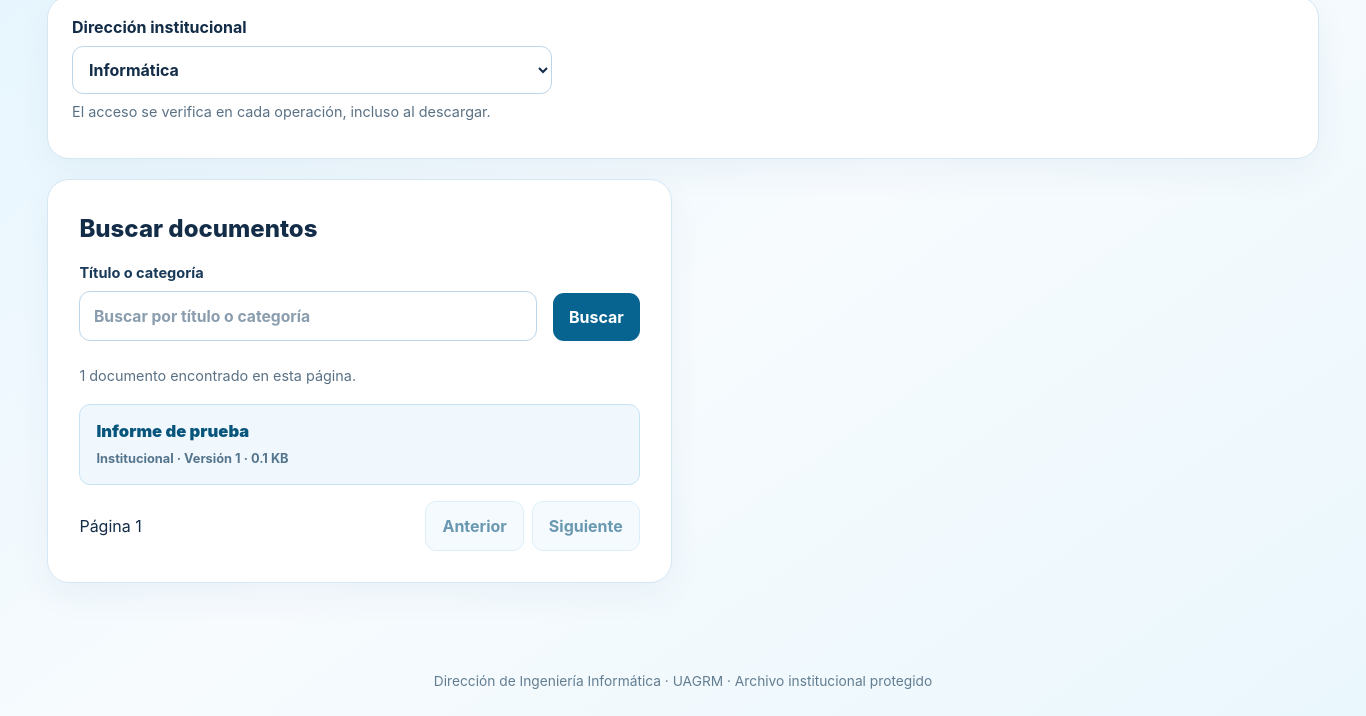
Vista previa autorizada de documentos › descarta una respuesta tardía si el usuario cerró el detalle
The width and height of the screenshot is (1366, 716).
(page scrolled)
What coordinates should you click on to do the following:
click the button "Informe de prueba Institucional · Versión 1 · 0.1 KB"
I would click on:
 (173, 431)
Its box is [79, 404, 640, 485].
(page scrolled)
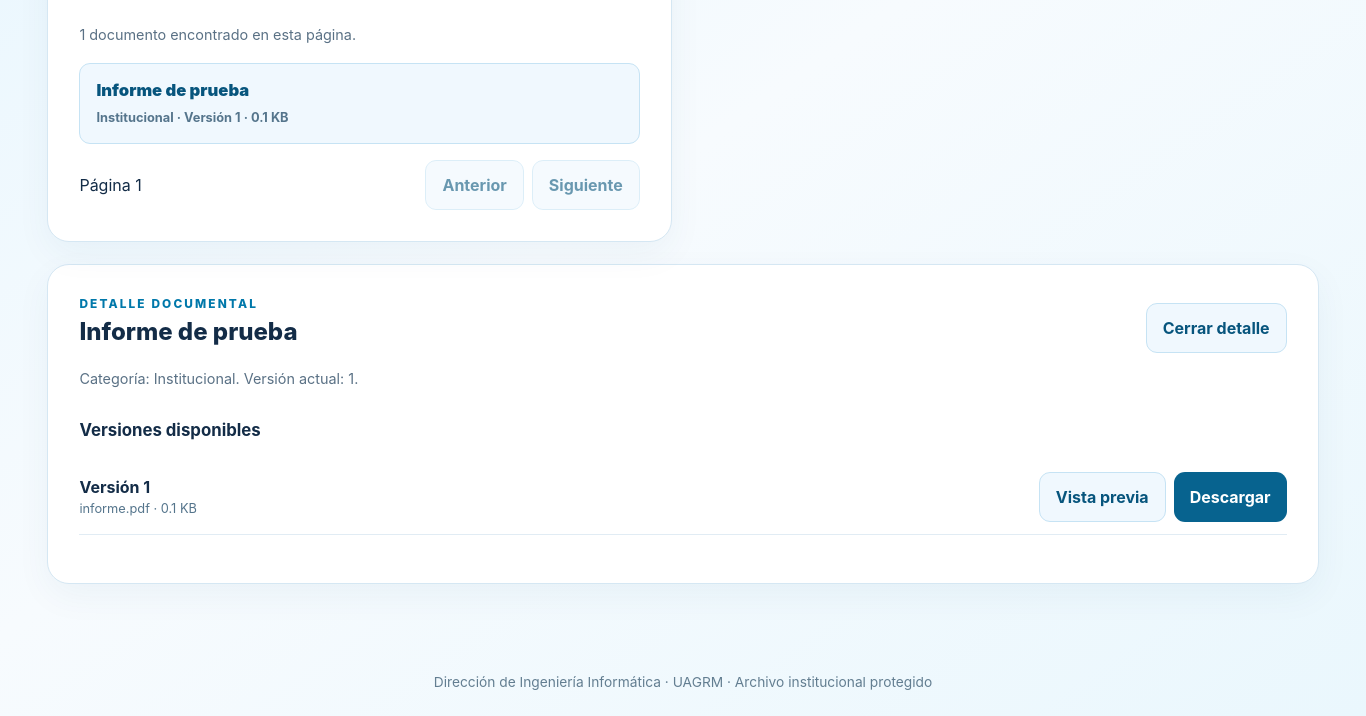
What coordinates should you click on to do the following:
click the button "Vista previa"
I would click on:
 (1102, 497)
Its box is [1039, 472, 1166, 522].
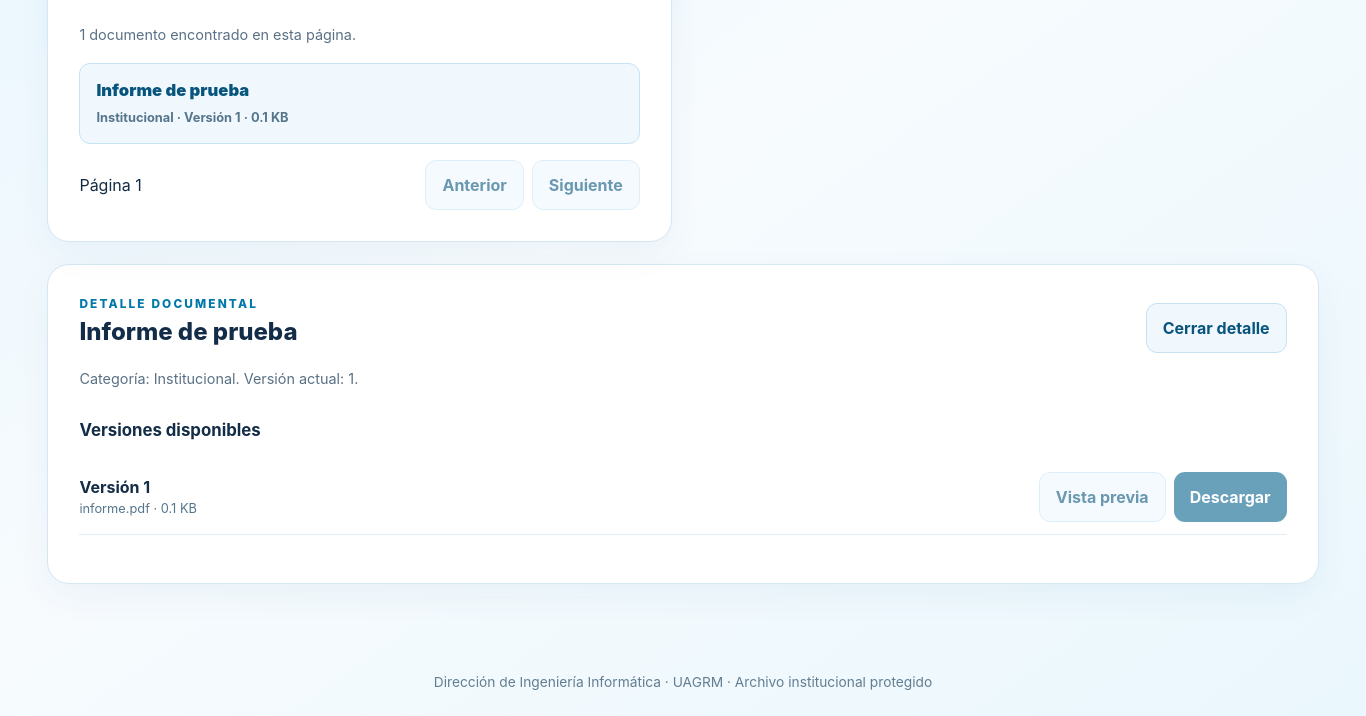
What coordinates should you click on to do the following:
click the button "Cerrar detalle"
I would click on:
 (1216, 328)
Its box is [1146, 303, 1287, 353].
(page scrolled)
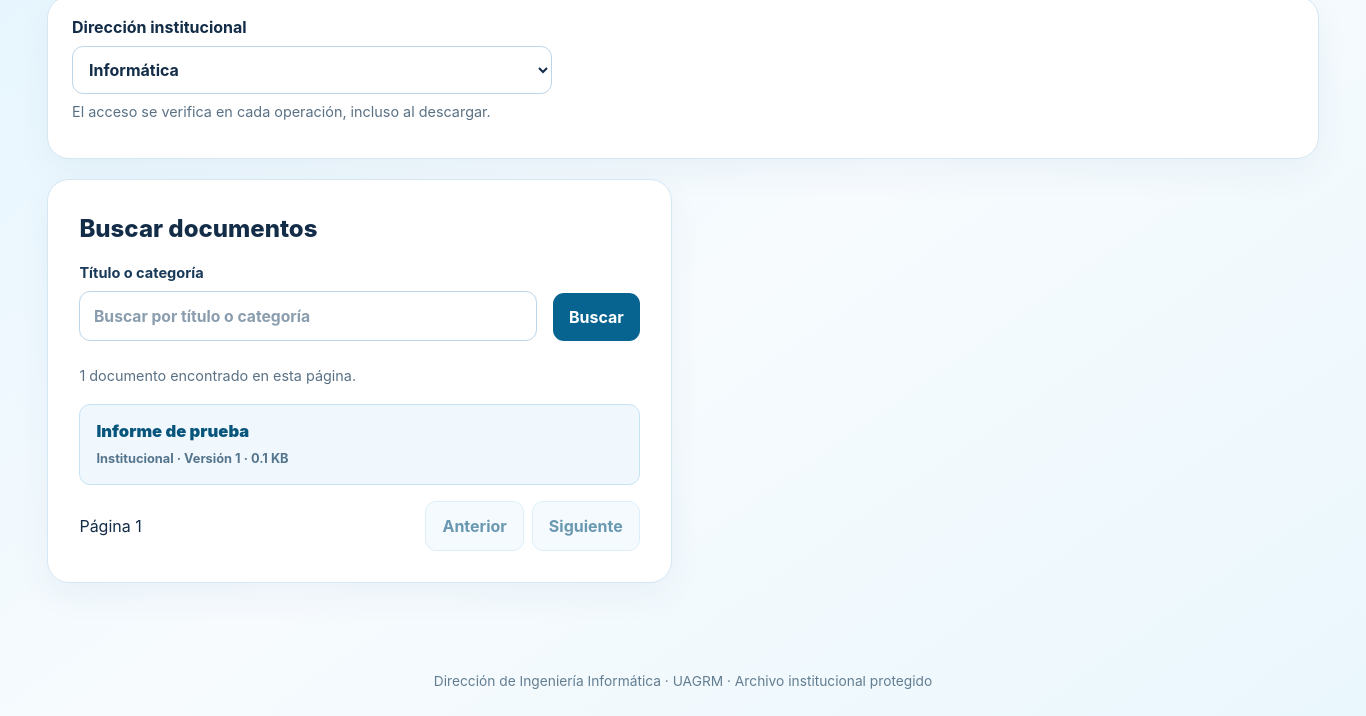
What coordinates should you click on to do the following:
click the button "Informe de prueba Institucional · Versión 1 · 0.1 KB"
I would click on:
 (173, 431)
Its box is [79, 404, 640, 485].
(page scrolled)
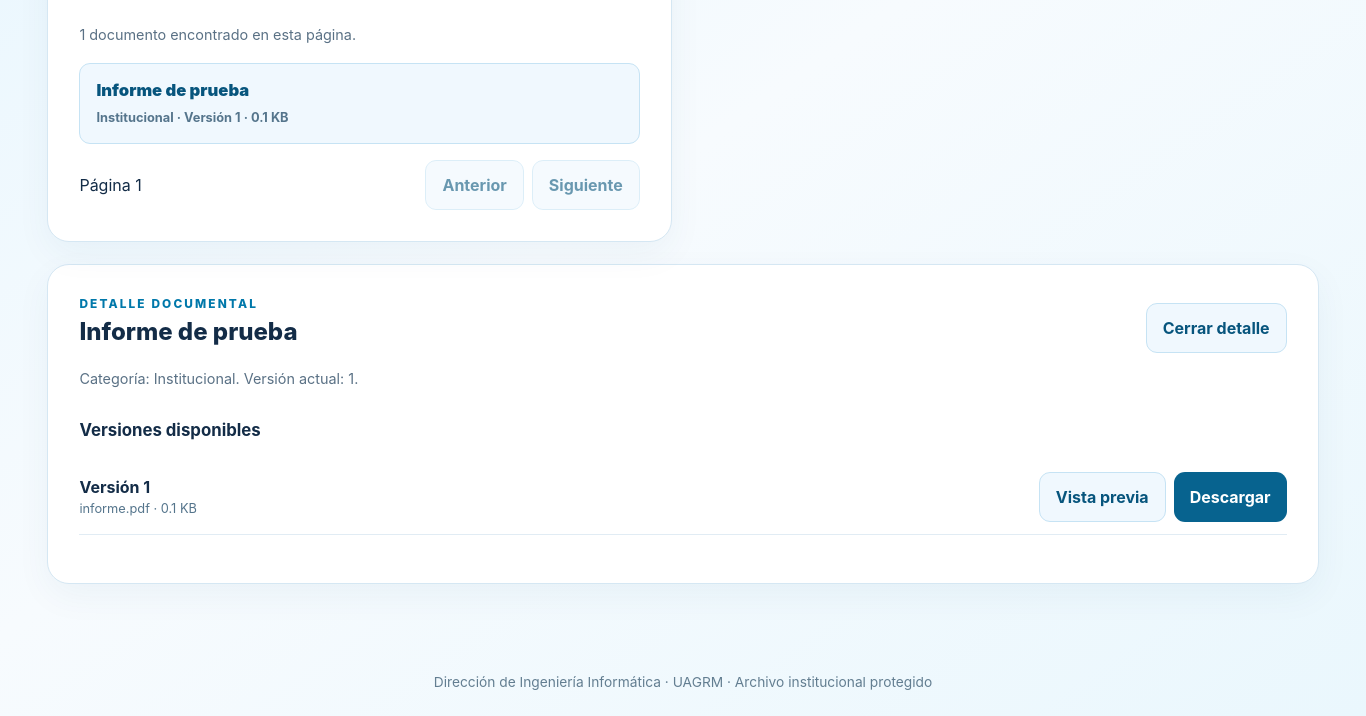
Expected: the button "Vista previa" is enabled, [1039, 472, 1166, 522]
